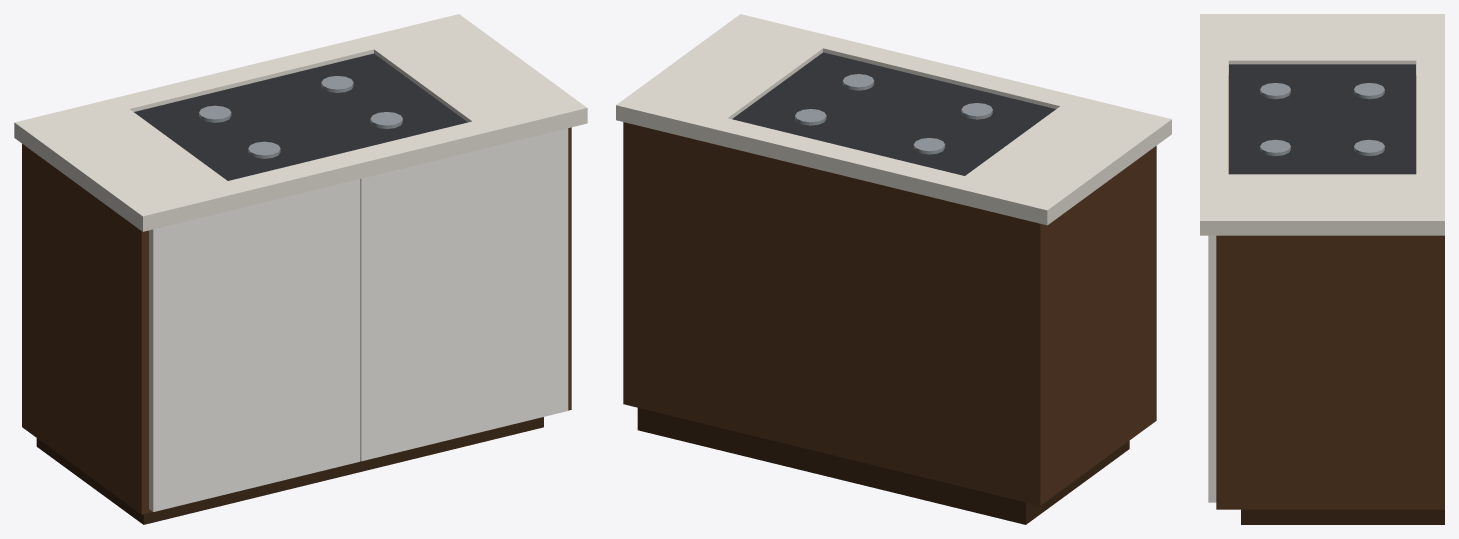
The model's file is kitchencooktop-lite.glb.
The picture shows the model from 3 angles, left to right: view 1: azimuth 30°, elevation 25°; view 2: azimuth 150°, elevation 25°; view 3: azimuth 270°, elevation 25°; orthographic projection. The views are drawn at different scales.
Parts seen in each view (by area): view 1: material-1-door, material-0-top, material-2-body, material-6-cooktop, material-4-base, material-3-metal; view 2: material-2-body, material-0-top, material-6-cooktop, material-4-base, material-3-metal; view 3: material-2-body, material-0-top, material-6-cooktop, material-4-base, material-1-door, material-3-metal.
Boxes of the visible parts, x1=… form: material-1-door: x1=149, y1=128, x2=568, y2=511; material-0-top: x1=14, y1=14, x2=587, y2=231; material-2-body: x1=22, y1=127, x2=571, y2=514; material-6-cooktop: x1=134, y1=53, x2=467, y2=180; material-4-base: x1=36, y1=417, x2=543, y2=524; material-3-metal: x1=199, y1=76, x2=402, y2=158; material-2-body: x1=623, y1=122, x2=1156, y2=505; material-0-top: x1=616, y1=14, x2=1171, y2=225; material-6-cooktop: x1=732, y1=52, x2=1055, y2=175; material-4-base: x1=637, y1=408, x2=1129, y2=524; material-3-metal: x1=795, y1=74, x2=992, y2=154; material-2-body: x1=1216, y1=75, x2=1444, y2=509; material-0-top: x1=1200, y1=14, x2=1444, y2=235; material-6-cooktop: x1=1229, y1=64, x2=1415, y2=174; material-4-base: x1=1241, y1=509, x2=1444, y2=524; material-1-door: x1=1208, y1=235, x2=1216, y2=502; material-3-metal: x1=1260, y1=83, x2=1384, y2=155.
Size of the model in its own units: 1.2 by 0.85 by 0.6.
